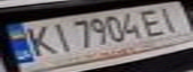0: (103, 12, 127, 44)
4: (118, 10, 148, 40)
7: (69, 17, 93, 50)
9: (87, 15, 112, 46)
E: (136, 7, 172, 37)
I: (154, 2, 190, 34), (45, 19, 75, 53)
K: (18, 21, 60, 57)
